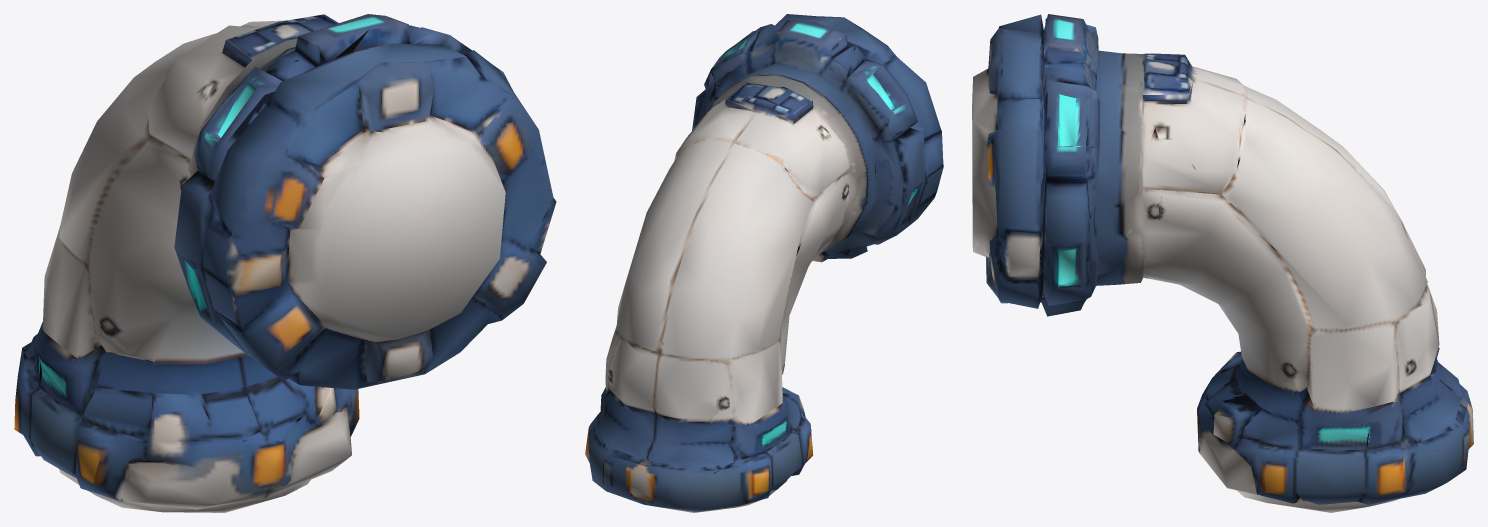
File: cryo-pipe-elbow_LOD0.glb
The picture shows the model from 3 angles, left to right: view 1: azimuth 30°, elevation 25°; view 2: azimuth 150°, elevation 25°; view 3: azimuth 270°, elevation 25°; orthographic projection. The views are drawn at different scales.
Parts seen in each view (by area): view 1: cryo-pipe-elbow_LOD0; view 2: cryo-pipe-elbow_LOD0; view 3: cryo-pipe-elbow_LOD0.
Part boxes in pixels (<box>): cryo-pipe-elbow_LOD0: <box>14,14,556,512</box>; cryo-pipe-elbow_LOD0: <box>585,14,943,512</box>; cryo-pipe-elbow_LOD0: <box>972,14,1473,512</box>.
Size of the model in its own units: 0.4537 by 0.7279 by 0.7412.
Materials: 1 (1 with a texture image).
